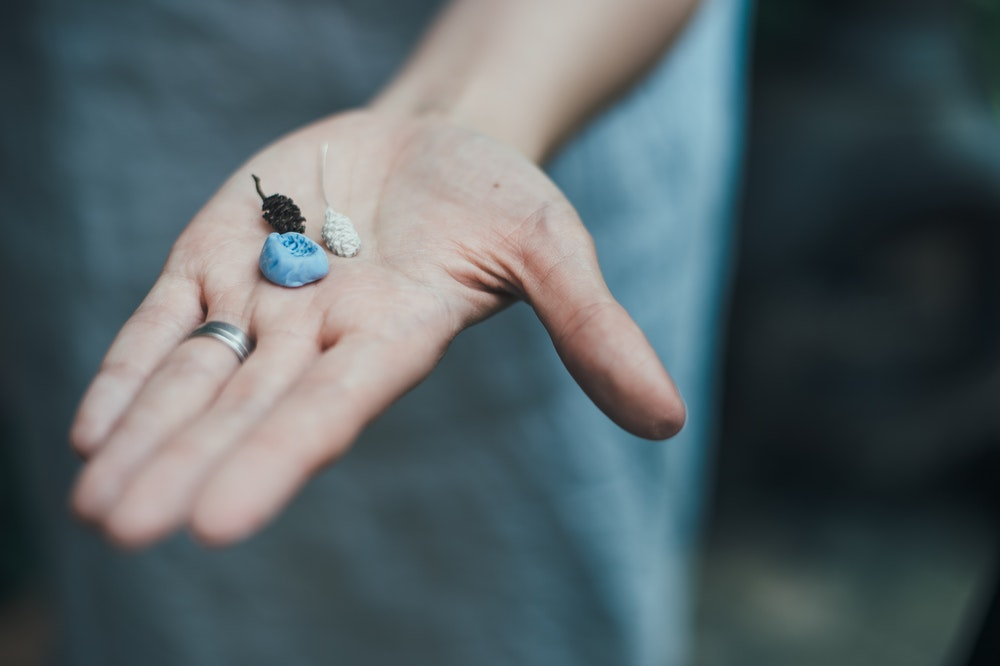palm: (218, 119, 513, 389)
